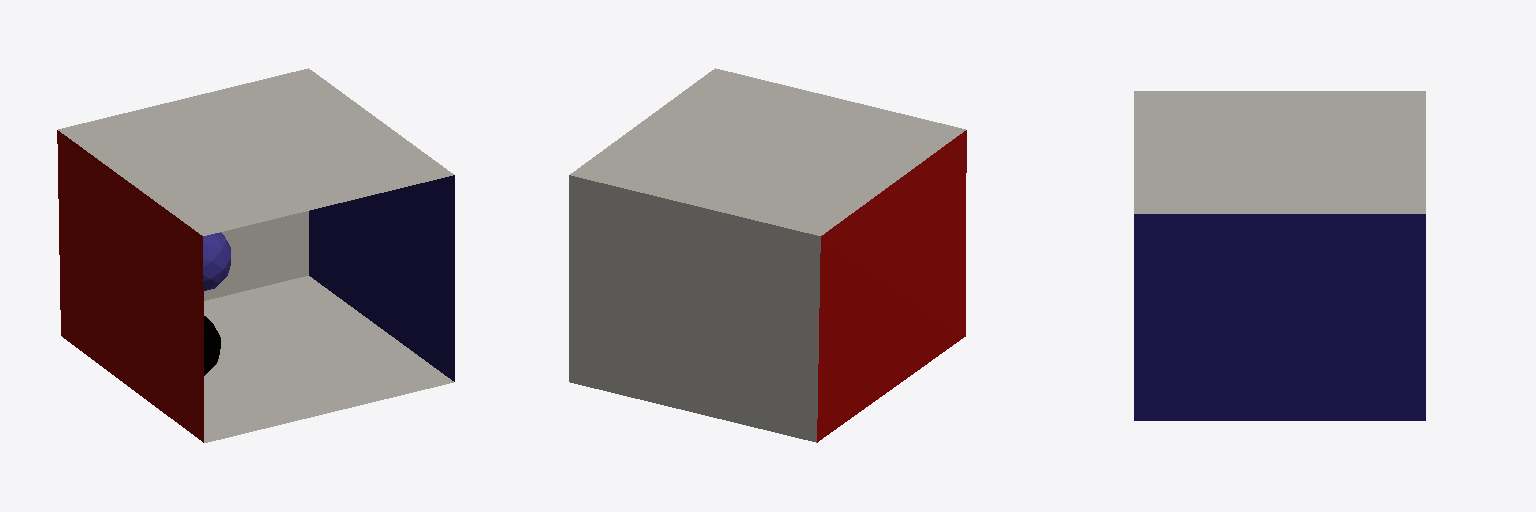
Rendered from CornellBox-Sphere-812.obj.
The picture shows the model from 3 angles: view 1: azimuth 30°, elevation 25°; view 2: azimuth 150°, elevation 25°; view 3: azimuth 270°, elevation 25°; orthographic projection.
Parts seen in each view (by area): view 1: ceiling, leftWall, floor, rightWall, backWall, leftSphere, rightSphere; view 2: backWall, ceiling, leftWall; view 3: rightWall, ceiling.
Part boxes in pixels (x1,y1,x2,y2): ceiling: (58,68,453,235); leftWall: (57,130,203,442); floor: (204,276,453,442); rightWall: (309,175,454,381); backWall: (204,211,308,300); leftSphere: (203,232,230,290); rightSphere: (204,316,220,375); backWall: (569,175,820,442); ceiling: (570,68,965,235); leftWall: (817,130,966,442); rightWall: (1134,214,1425,420); ceiling: (1134,91,1425,213).
Bounding box in the file's own units: 2.02 × 1.59 × 2.03.